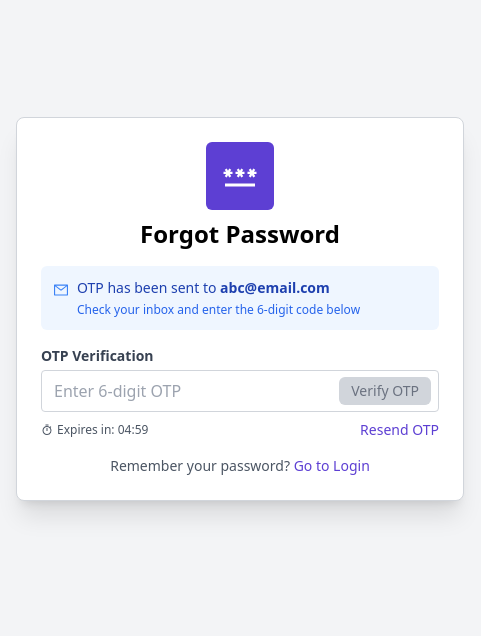
Test: ForgotPassword component › verifies OTP and advances to new password step
Type "123456" into the field with placeholder "Enter 6-digit OTP" at (240, 391), box [41,370,439,412]
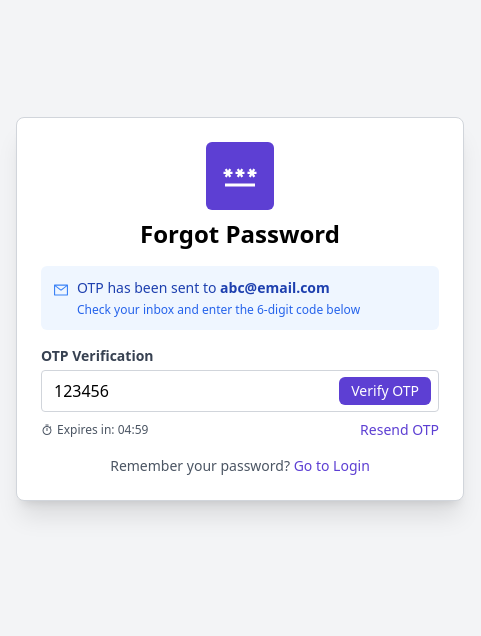
Click the button "Verify OTP" at (385, 391), box [339,377,431,405]
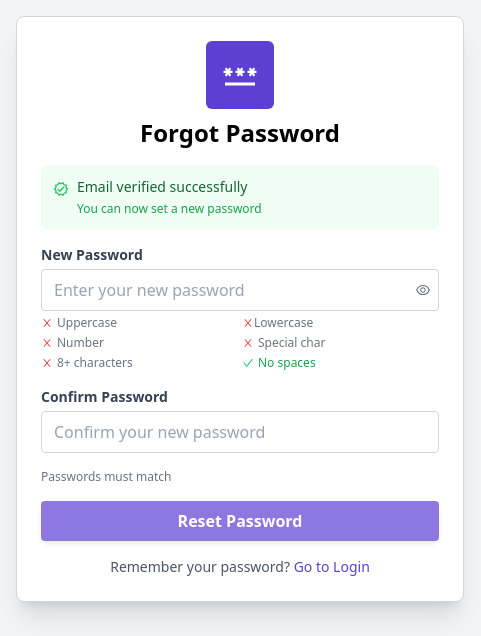
Result: the text "Email verified successfully" is shown at [77,177,262,197]
Result: the password field with placeholder "Enter your new password" is shown at [41,269,439,311]
Result: the password field with placeholder "Confirm your new password" is shown at [41,411,439,453]
